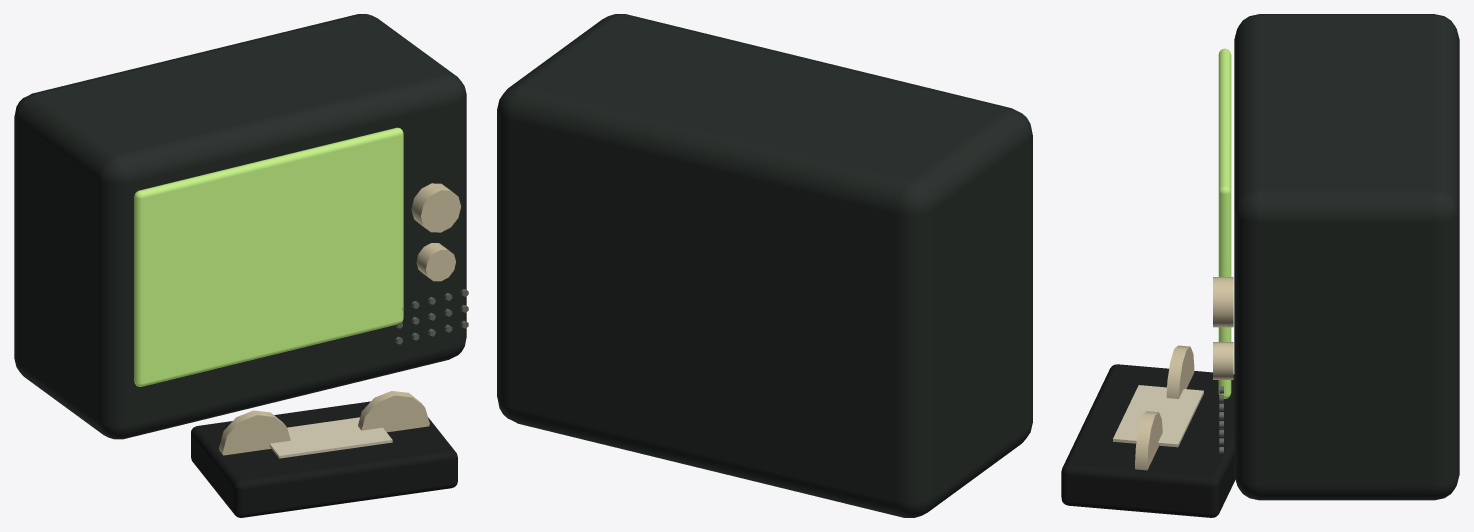
File: ucb_crt_vhs_collectible_psx.glb
The picture shows the model from 3 angles, left to right: view 1: azimuth 30°, elevation 25°; view 2: azimuth 150°, elevation 25°; view 3: azimuth 270°, elevation 25°; orthographic projection. The views are drawn at different scales.
Parts seen in each view (by area): view 1: crt_case, crt_screen, vhs_shell, tape_reel (×2), vhs_label, channel_dial, volume_dial; view 2: crt_case; view 3: crt_case, vhs_shell, crt_screen, vhs_label, tape_reel (×2), channel_dial, volume_dial.
Boxes of the visible parts, <box> form: crt_case: <box>14,14,466,439</box>; crt_screen: <box>134,127,403,386</box>; vhs_shell: <box>191,401,457,517</box>; tape_reel (×2): <box>219,391,429,455</box>; vhs_label: <box>269,417,392,458</box>; channel_dial: <box>411,183,460,232</box>; volume_dial: <box>416,243,455,281</box>; crt_case: <box>497,14,1032,517</box>; crt_case: <box>1234,14,1459,500</box>; vhs_shell: <box>1061,364,1235,517</box>; crt_screen: <box>1218,48,1231,398</box>; vhs_label: <box>1113,385,1203,447</box>; tape_reel (×2): <box>1135,345,1194,470</box>; channel_dial: <box>1213,277,1233,327</box>; volume_dial: <box>1213,342,1233,379</box>.
Size of the model in its own units: 2.9 by 2.5 by 2.51.
